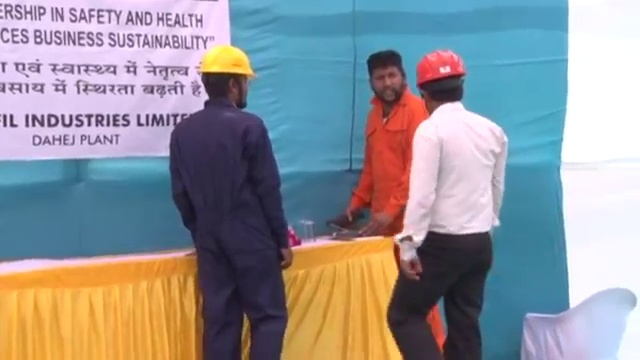helmet: (198, 44, 260, 79), (413, 48, 467, 86)
helmet_off: (367, 48, 409, 105)
helmet_on: (196, 42, 260, 111), (412, 46, 469, 112)
person: (165, 42, 294, 360), (386, 45, 509, 360), (343, 48, 429, 240)
